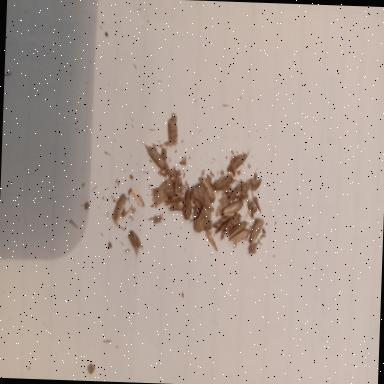pbw: (220, 213, 240, 241), (227, 148, 250, 172), (194, 206, 212, 234), (146, 146, 167, 170), (111, 192, 126, 224), (126, 230, 144, 255), (152, 180, 168, 208), (228, 228, 250, 248), (222, 198, 244, 218), (200, 176, 215, 204), (166, 114, 178, 146), (214, 175, 237, 191), (250, 218, 264, 244), (183, 182, 192, 220), (213, 214, 230, 234), (130, 186, 145, 208), (252, 177, 262, 192), (174, 180, 180, 195), (230, 189, 237, 198)
